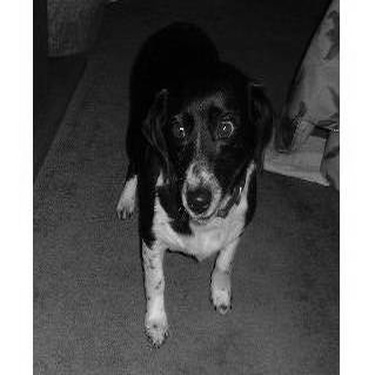dog: (105, 7, 271, 356)
